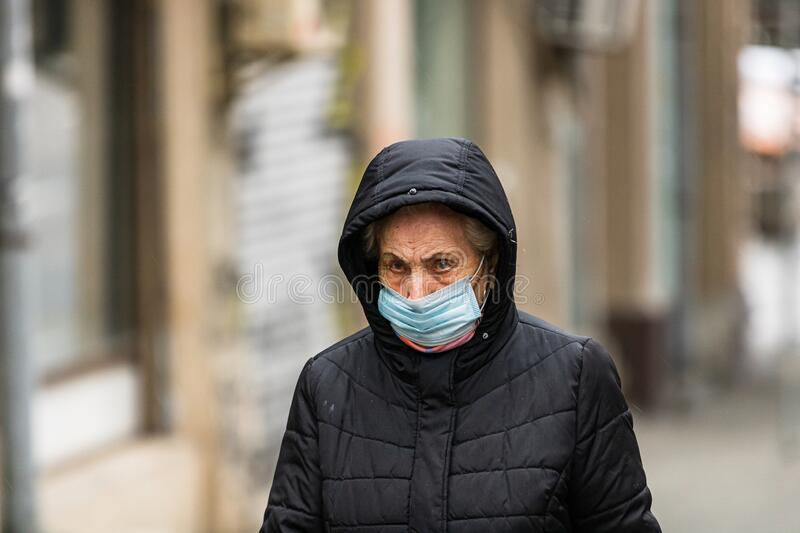with_mask: (364, 205, 505, 350)
